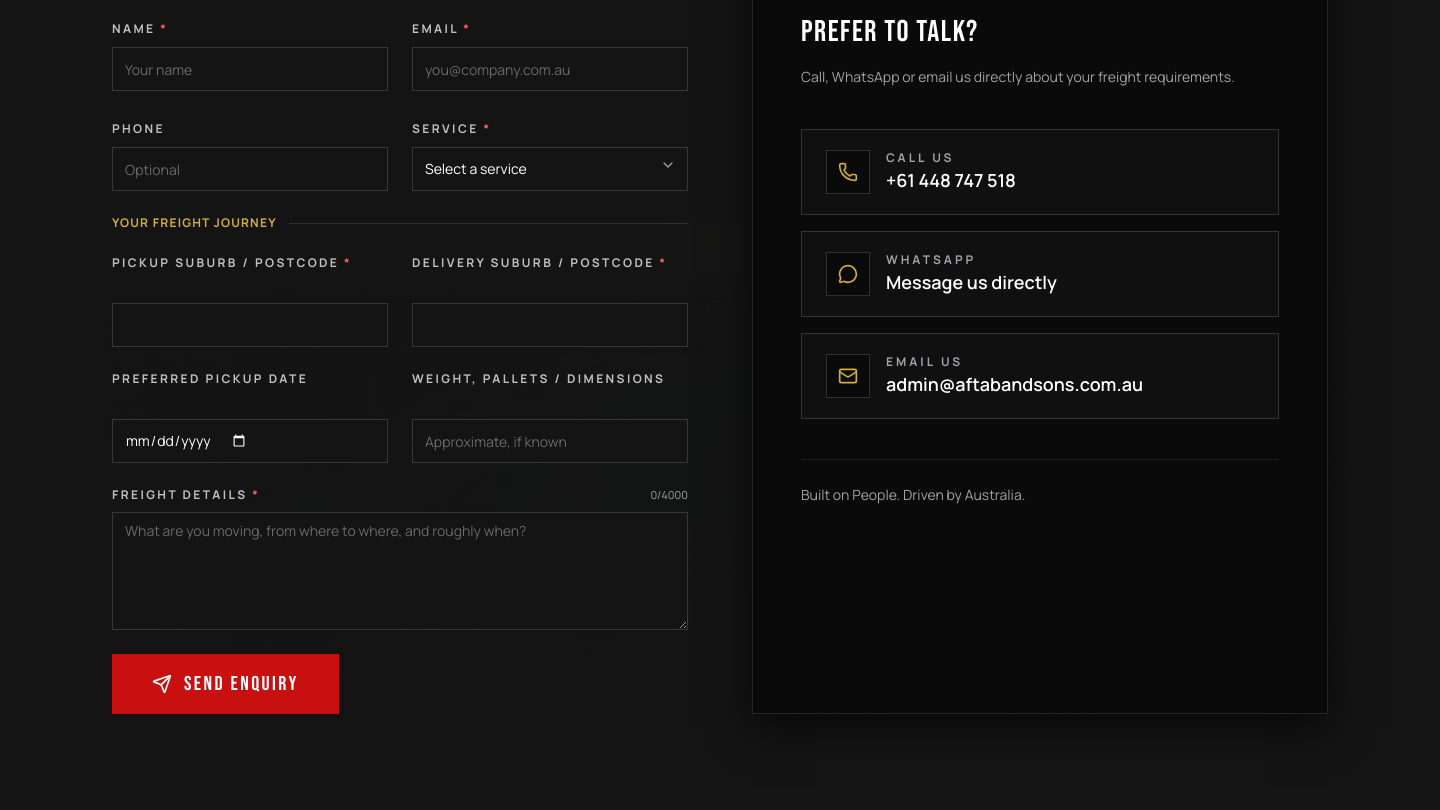
Test: Web3Forms quote form › validates required quote details before submission
The width and height of the screenshot is (1440, 810).
(page scrolled)
Click the button with test id "quote-submit-button" at (225, 684), box [112, 654, 339, 714]
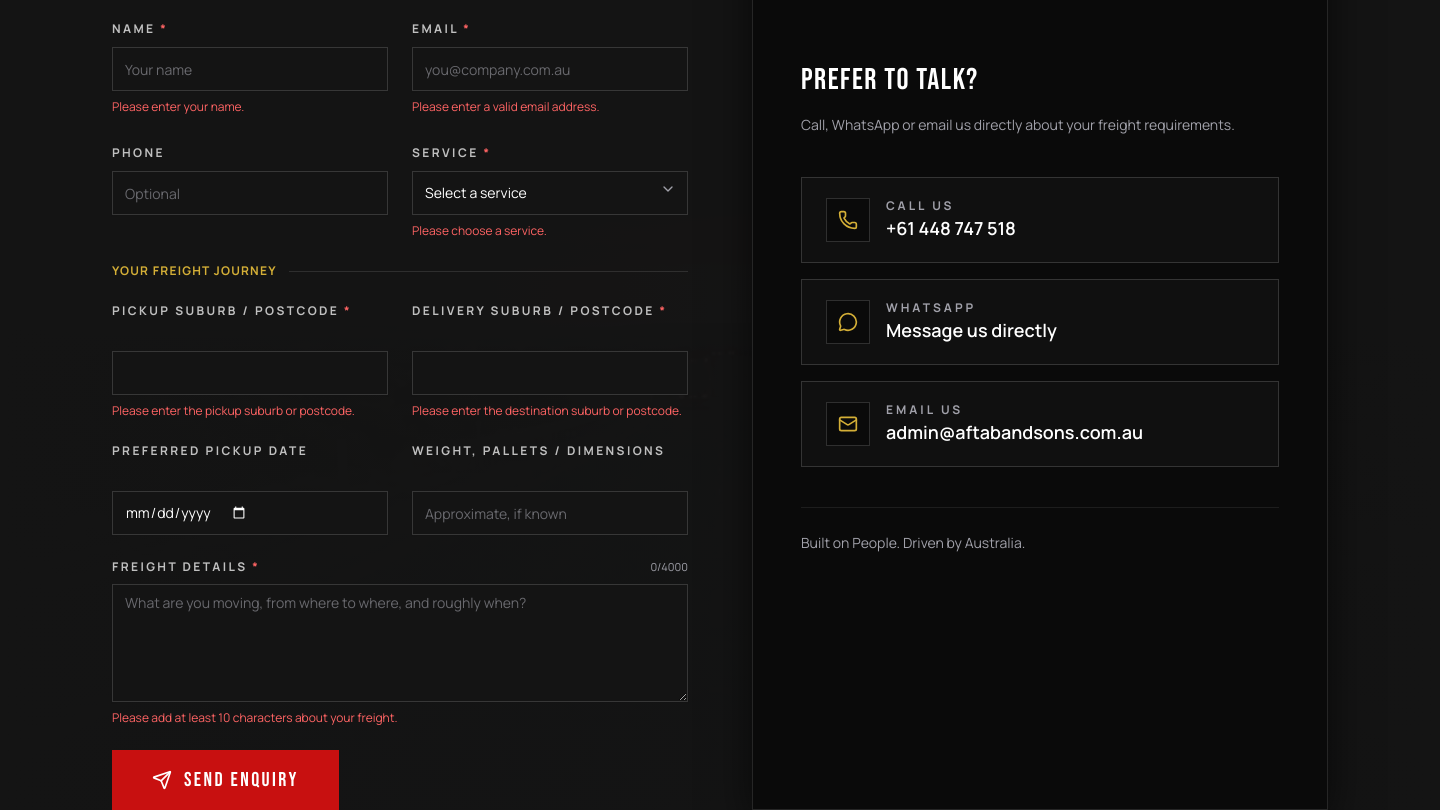
Expected: the message "Please enter your name." is shown, [112, 98, 244, 115]
Expected: the message "Please enter a valid email address." is shown, [412, 98, 600, 115]
Expected: the message "Please choose a service." is shown, [412, 222, 547, 239]
